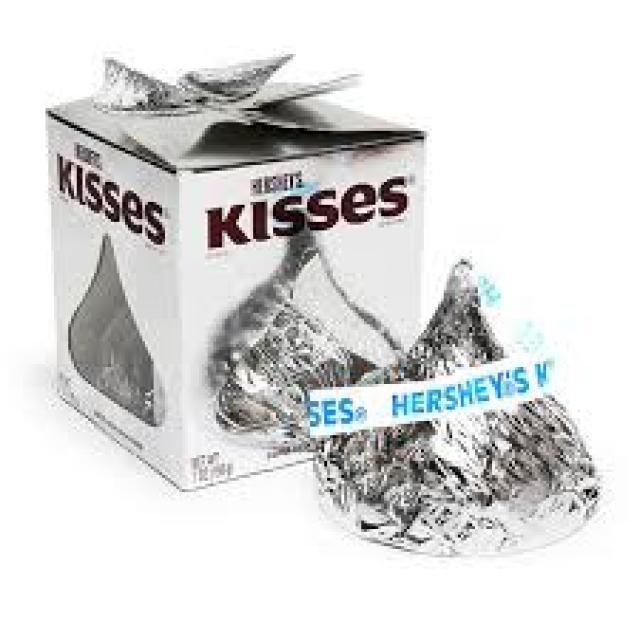kisses: (302, 256, 625, 596)
